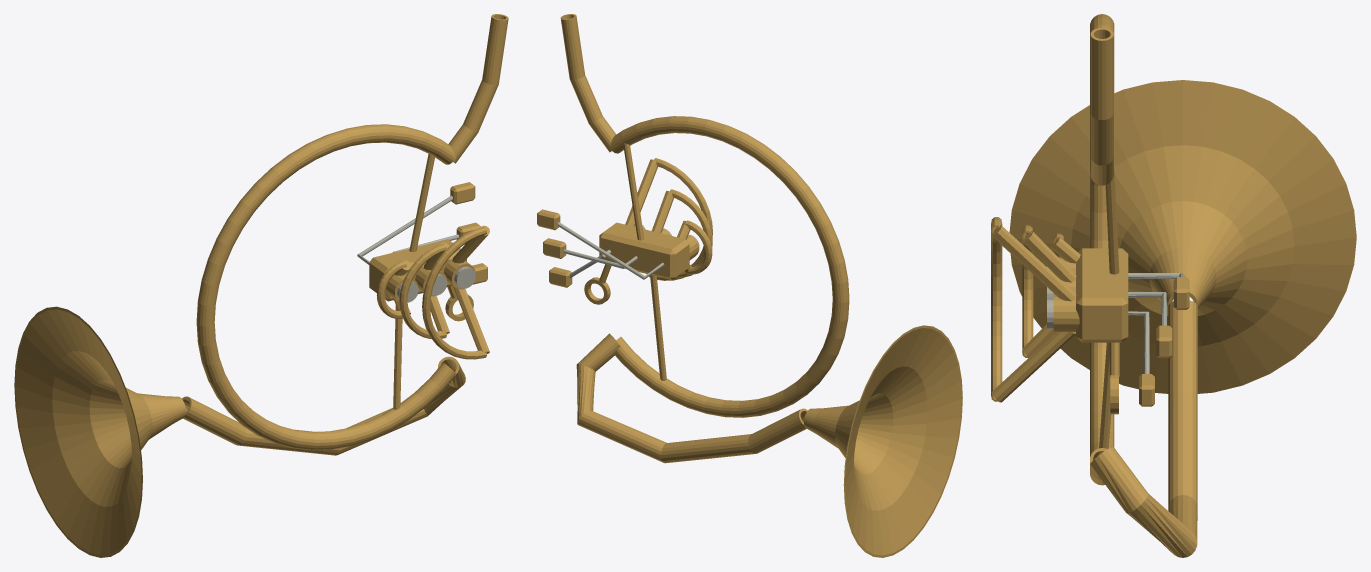
File: full.glb
3 views of the same model, side by side, from view 1: azimuth 30°, elevation 25°; view 2: azimuth 150°, elevation 25°; view 3: azimuth 270°, elevation 25° (orthographic). The views are drawn at different scales.
Parts seen in each view (by area): view 1: Hollow broad flared bell, Broad main coiled tube, Rear bell throat bend, Open rising leadpipe, Nested tuning U 2, Valve bank support, Nested tuning U 1, Valve branch lower socket 2, Upper bank brace, Lower bank brace, Nested tuning U 0; view 2: Hollow broad flared bell, Broad main coiled tube, Rear bell throat bend, Valve bank support, Open rising leadpipe, Nested tuning U 2, Lower bank brace, Upper bank brace, Nested tuning U 1, Valve branch upper socket 2, Nested tuning U 0, Lever linkage 0; view 3: Hollow broad flared bell, Rear bell throat bend, Valve bank support, Open rising leadpipe, Broad main coiled tube, Nested tuning U 2, Valve branch upper socket 2, Valve branch lower socket 2, Nested tuning U 1, Upper bank brace, Valve branch upper socket 1, Rotary valve housing 2 (+6 smaller).
Boxes of the visible parts, x1=… form: Hollow broad flared bell: x1=14, y1=306, x2=185, y2=557; Broad main coiled tube: x1=196, y1=124, x2=455, y2=450; Rear bell throat bend: x1=182, y1=356, x2=465, y2=455; Open rising leadpipe: x1=448, y1=14, x2=508, y2=163; Nested tuning U 2: x1=422, y1=226, x2=486, y2=359; Valve bank support: x1=369, y1=239, x2=466, y2=301; Nested tuning U 1: x1=399, y1=243, x2=446, y2=338; Valve branch lower socket 2: x1=453, y1=286, x2=489, y2=353; Upper bank brace: x1=409, y1=154, x2=434, y2=251; Lower bank brace: x1=393, y1=305, x2=402, y2=409; Nested tuning U 0: x1=377, y1=260, x2=406, y2=318; Hollow broad flared bell: x1=804, y1=325, x2=962, y2=557; Broad main coiled tube: x1=609, y1=116, x2=849, y2=417; Rear bell throat bend: x1=576, y1=333, x2=807, y2=463; Valve bank support: x1=599, y1=222, x2=689, y2=279; Open rising leadpipe: x1=560, y1=14, x2=616, y2=152; Nested tuning U 2: x1=654, y1=158, x2=712, y2=280; Lower bank brace: x1=650, y1=275, x2=666, y2=380; Upper bank brace: x1=623, y1=143, x2=644, y2=240; Nested tuning U 1: x1=670, y1=189, x2=712, y2=277; Valve branch upper socket 2: x1=625, y1=159, x2=657, y2=226; Nested tuning U 0: x1=685, y1=220, x2=712, y2=274; Lever linkage 0: x1=557, y1=222, x2=664, y2=279; Hollow broad flared bell: x1=1009, y1=80, x2=1356, y2=393; Rear bell throat bend: x1=1090, y1=300, x2=1197, y2=557; Valve bank support: x1=1076, y1=248, x2=1128, y2=342; Open rising leadpipe: x1=1090, y1=27, x2=1113, y2=185; Broad main coiled tube: x1=1090, y1=14, x2=1114, y2=485; Nested tuning U 2: x1=991, y1=217, x2=1002, y2=401; Valve branch upper socket 2: x1=991, y1=225, x2=1076, y2=301; Valve branch lower socket 2: x1=991, y1=332, x2=1075, y2=402; Nested tuning U 1: x1=1022, y1=225, x2=1033, y2=357; Upper bank brace: x1=1105, y1=168, x2=1119, y2=274; Valve branch upper socket 1: x1=1022, y1=231, x2=1076, y2=282; Rotary valve housing 2: x1=1053, y1=295, x2=1079, y2=332.
Bounding box in the file's own units: 0.5014 × 0.5515 × 0.2944.
